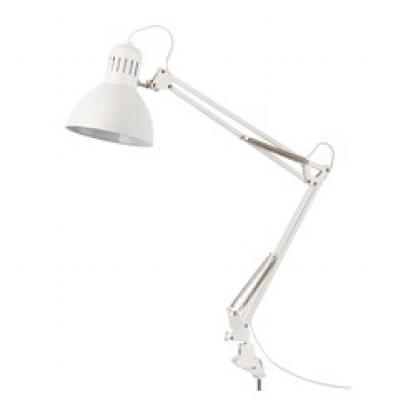Lamp: (50, 10, 341, 393)
